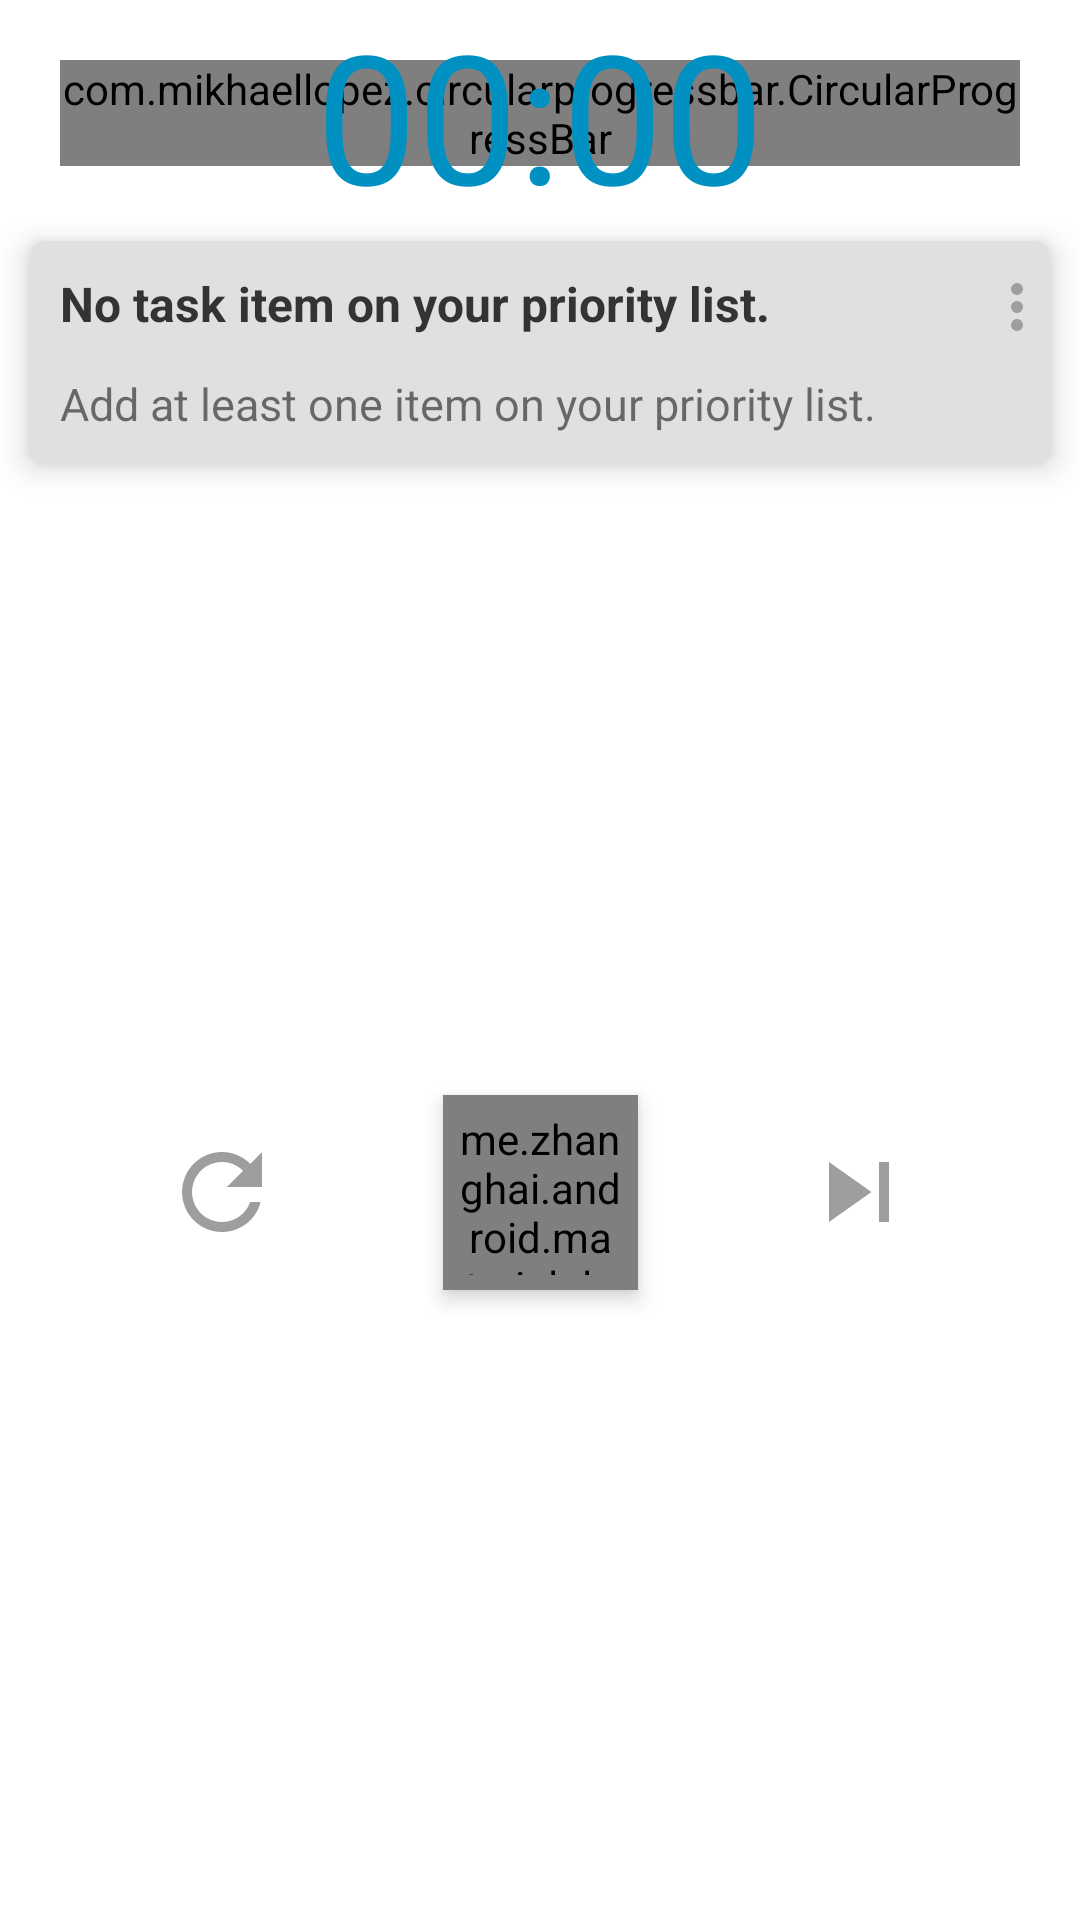

Icons on this 1080 × 1920 Android screen, each with the point to tap as [x,y]:
more: [1017,307]
next: [859,1192]
refresh: [222,1192]
